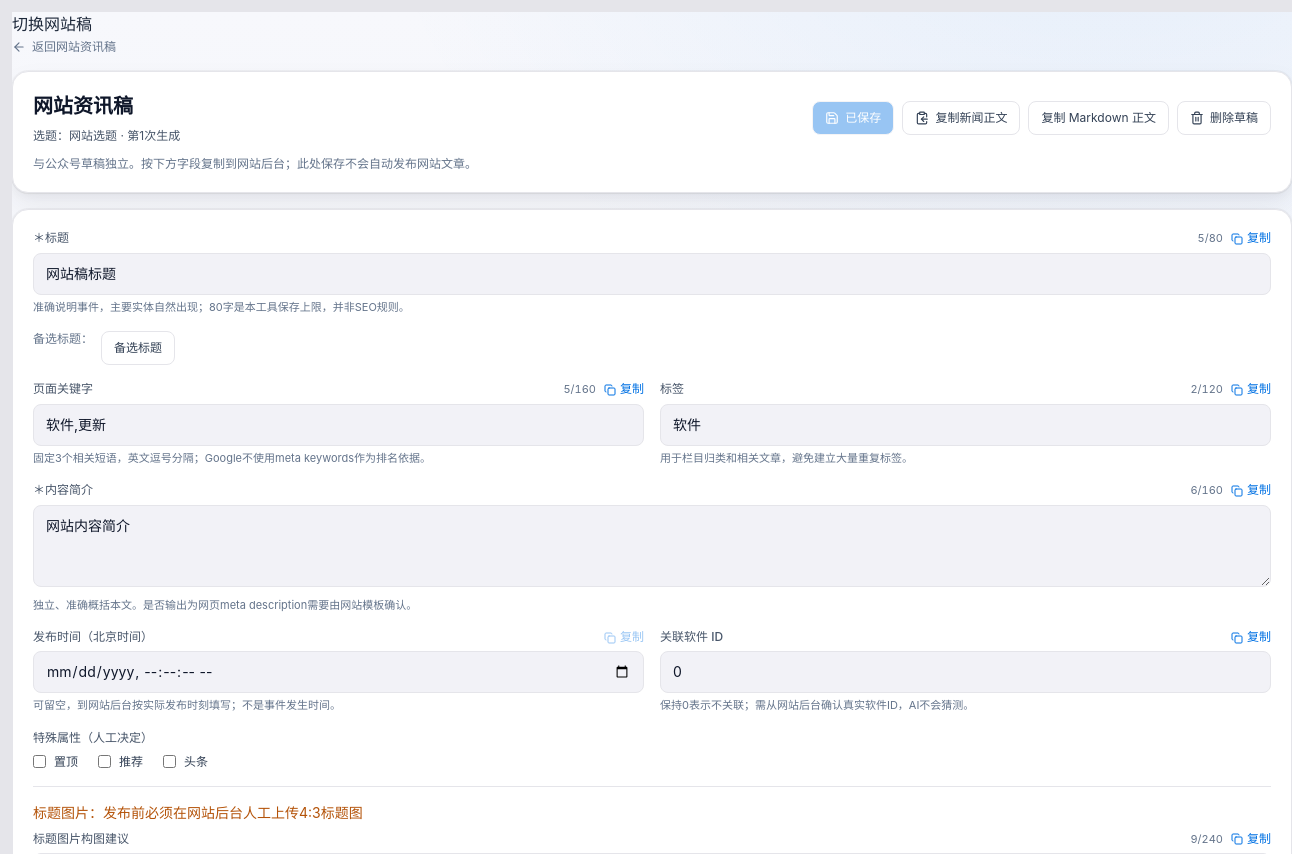
Scenario: website CMS fields › blocks leaving while a save is pending even if the form is reverted
The image size is (1292, 854).
Replace the text in the field labelled "＊标题" with "提交中的标题". click: (652, 274)
box: [33,252,1271,294]
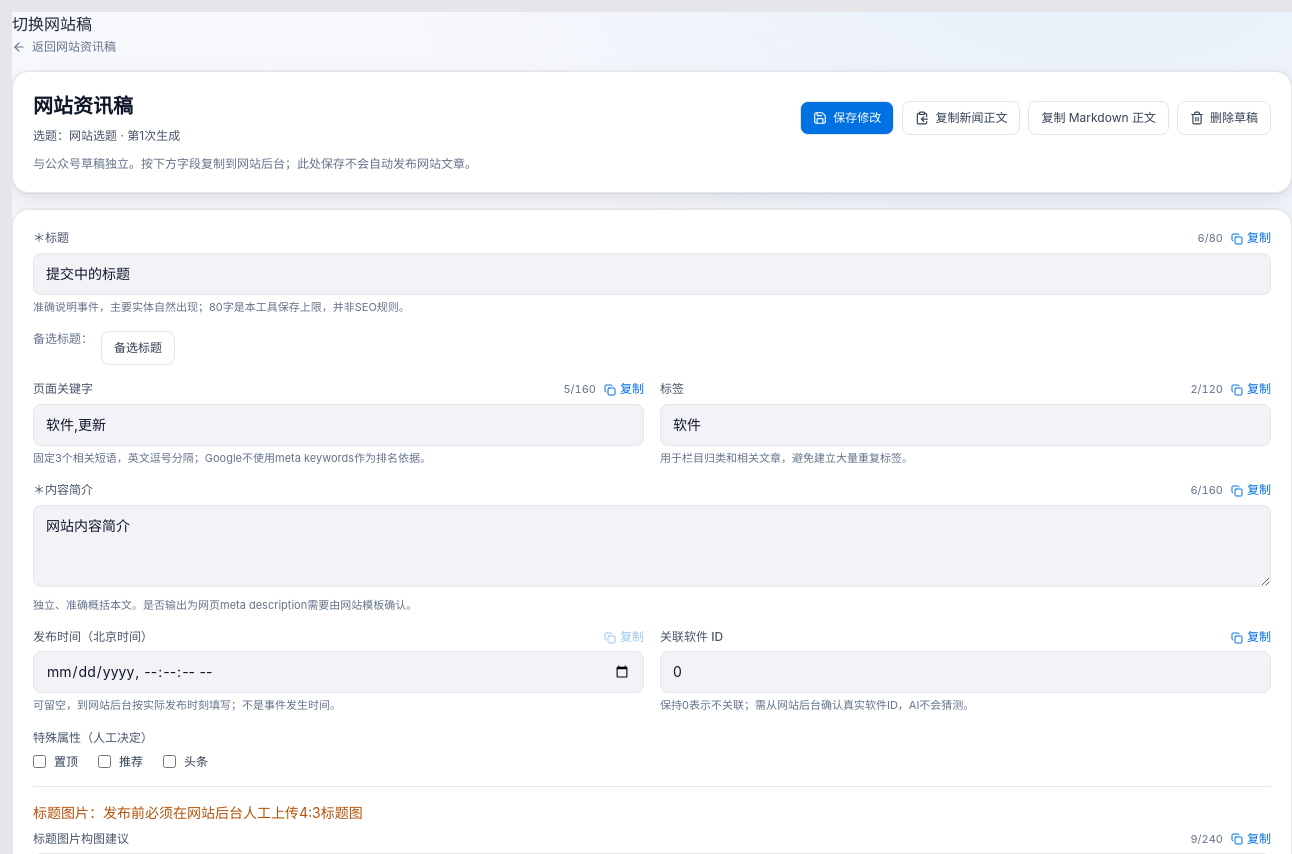
Click the button "保存修改". click: (847, 118)
box: [800,101,894,135]
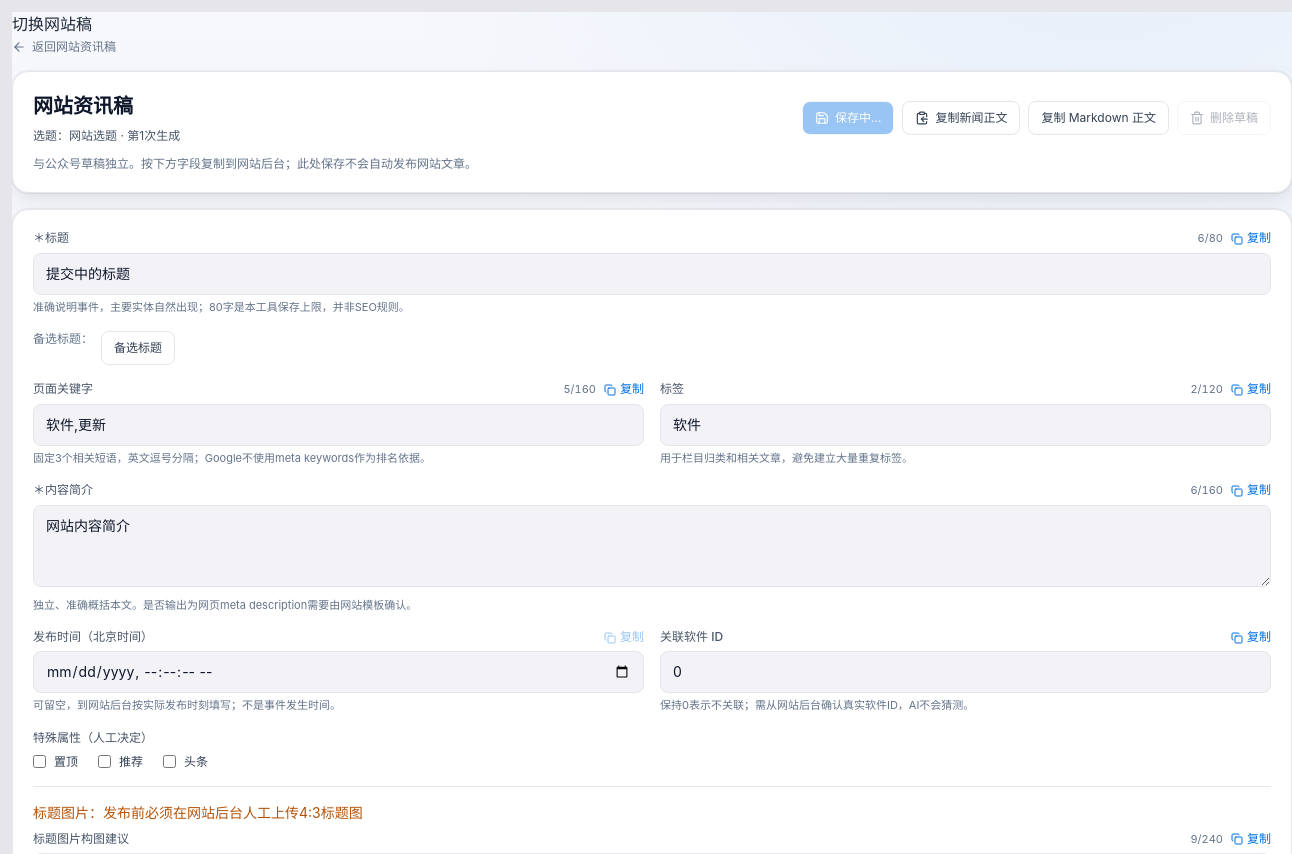
Replace the text in the field labelled "＊标题" with "网站稿标题". click: (652, 274)
box: [33,252,1271,294]
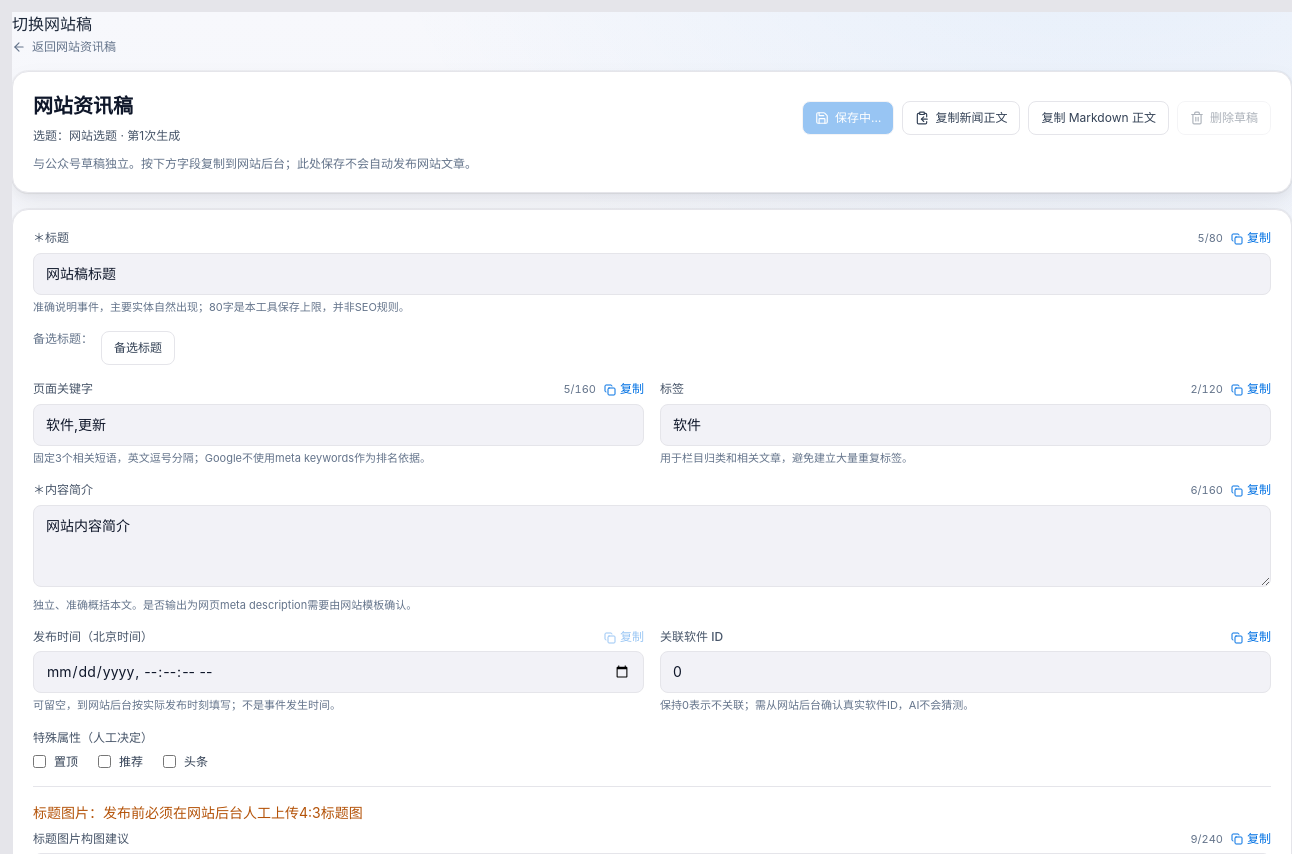
Click the link "切换网站稿". click: (52, 24)
box: [12,14,92,34]
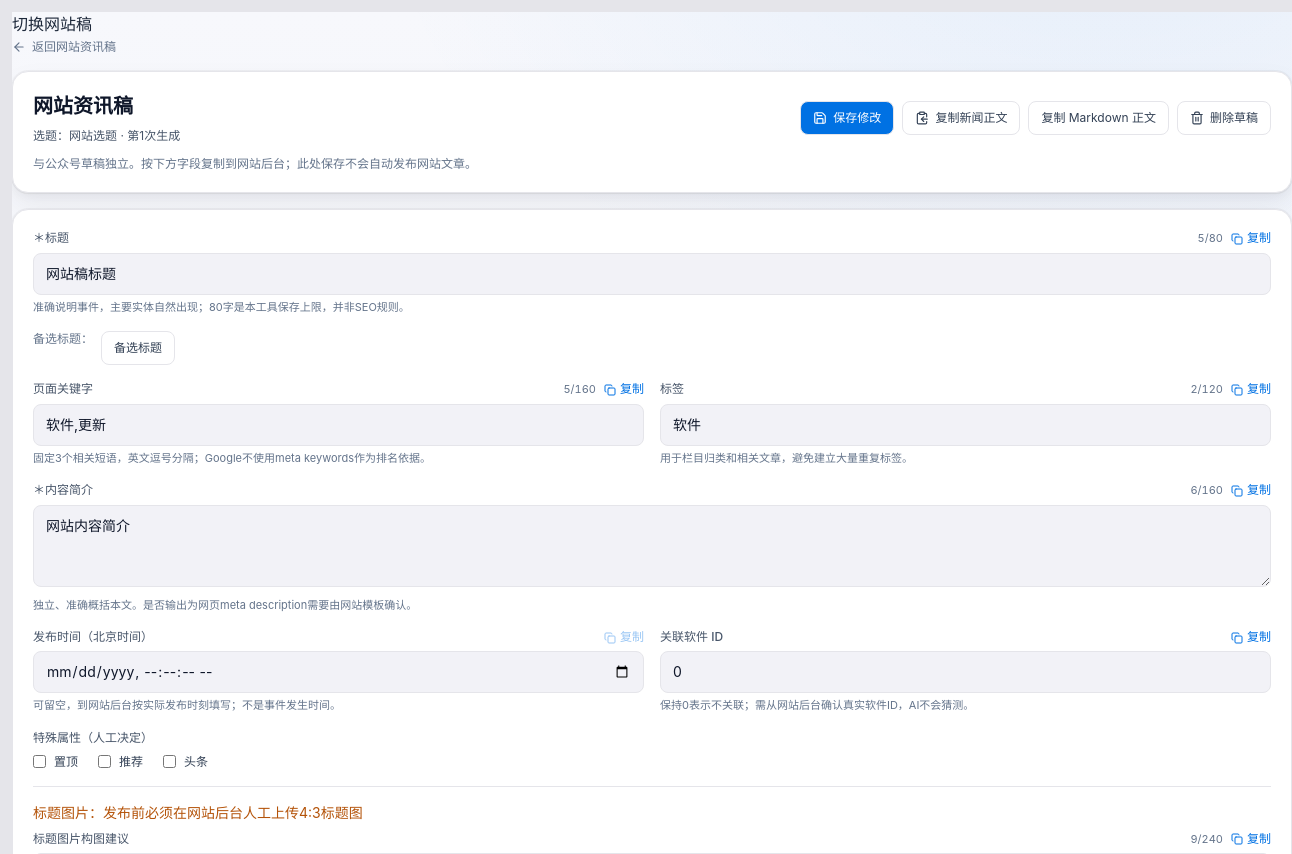
Check: the button "保存修改" is shown, box [800,101,894,135]
